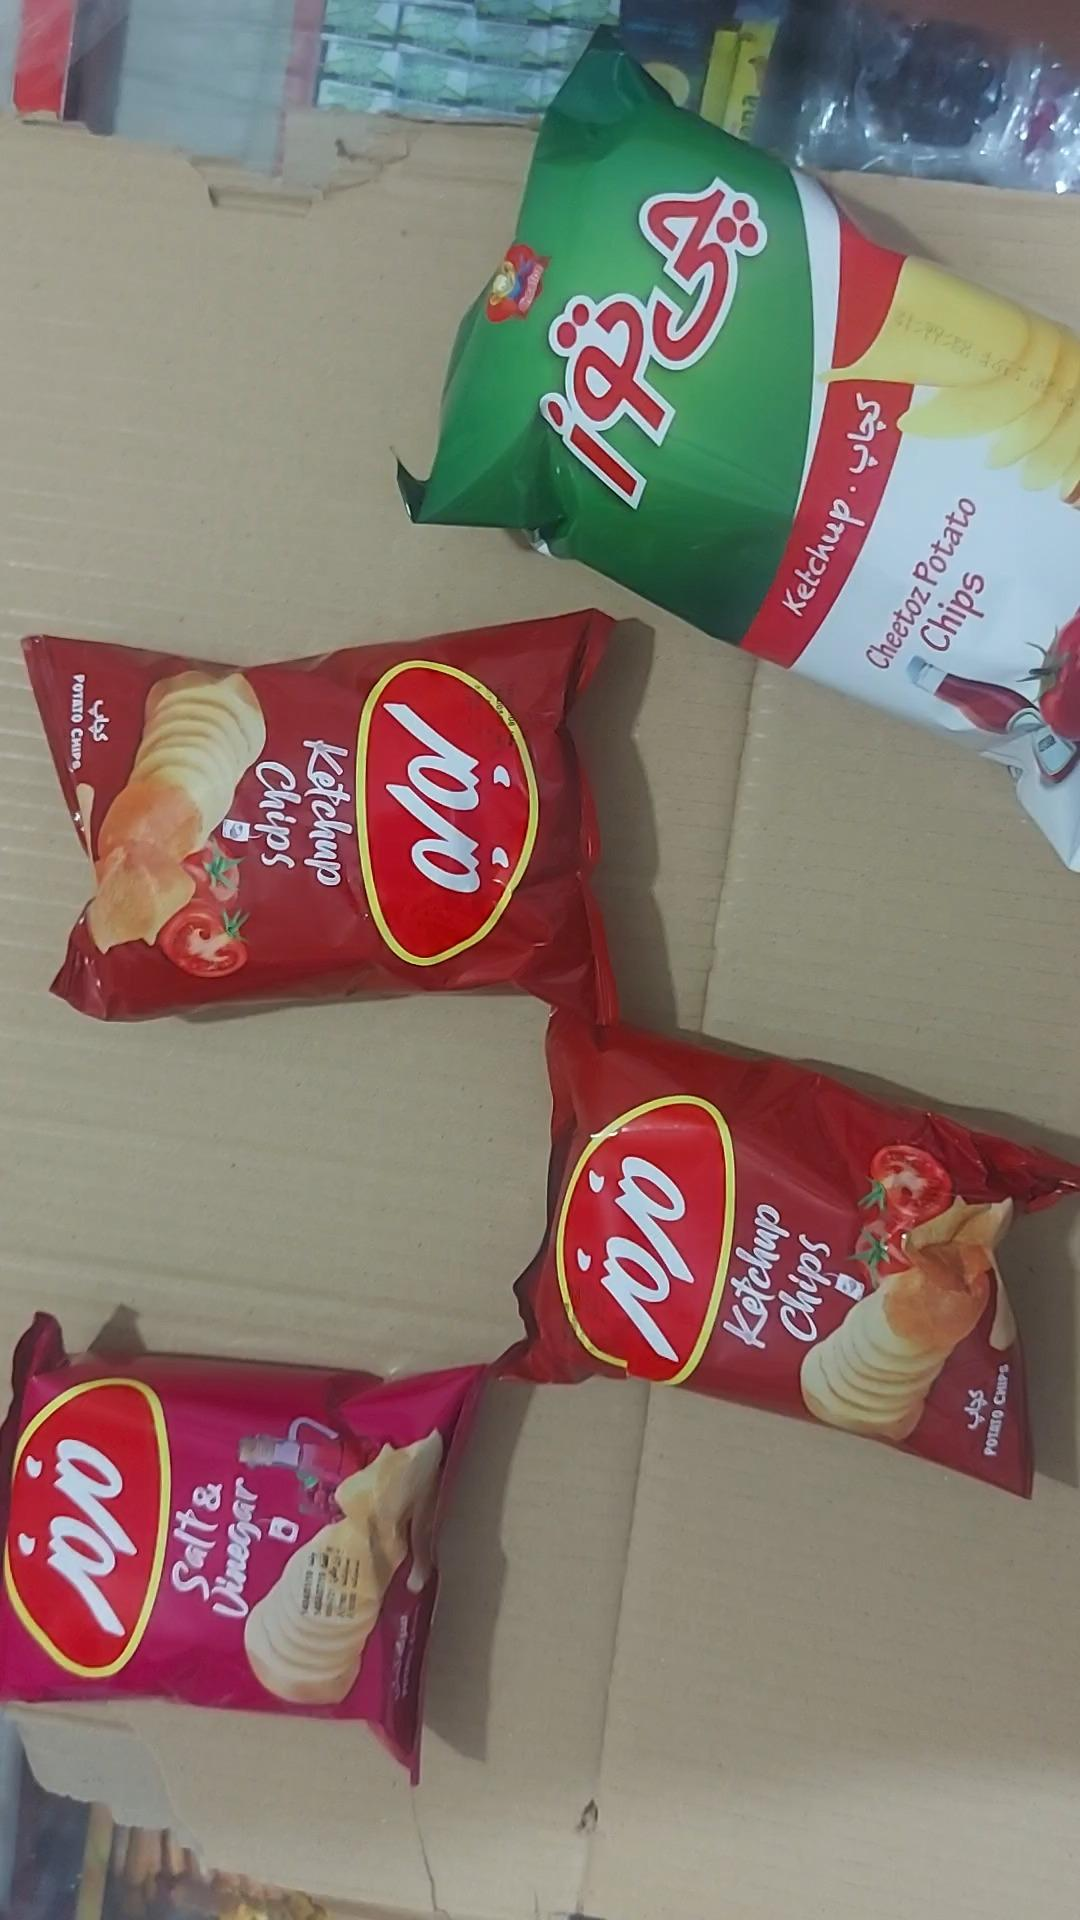Cheetoz ketchup chips: (397, 26, 1079, 878)
Maz Maz ketchup chips: (491, 1011, 1079, 1501), (21, 609, 618, 1027)
Maz Maz vinegar chips: (0, 1312, 487, 1787)
